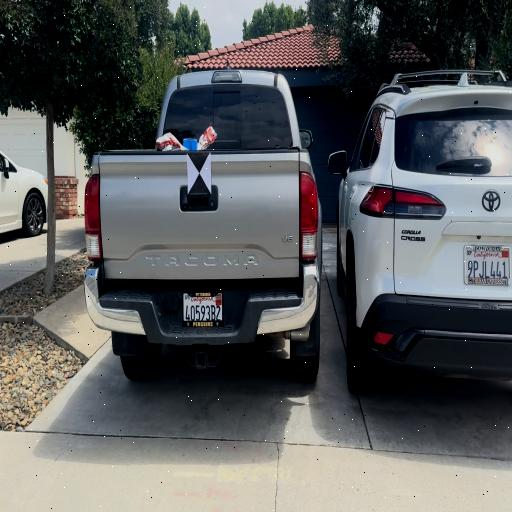target: (187, 152, 211, 193)
